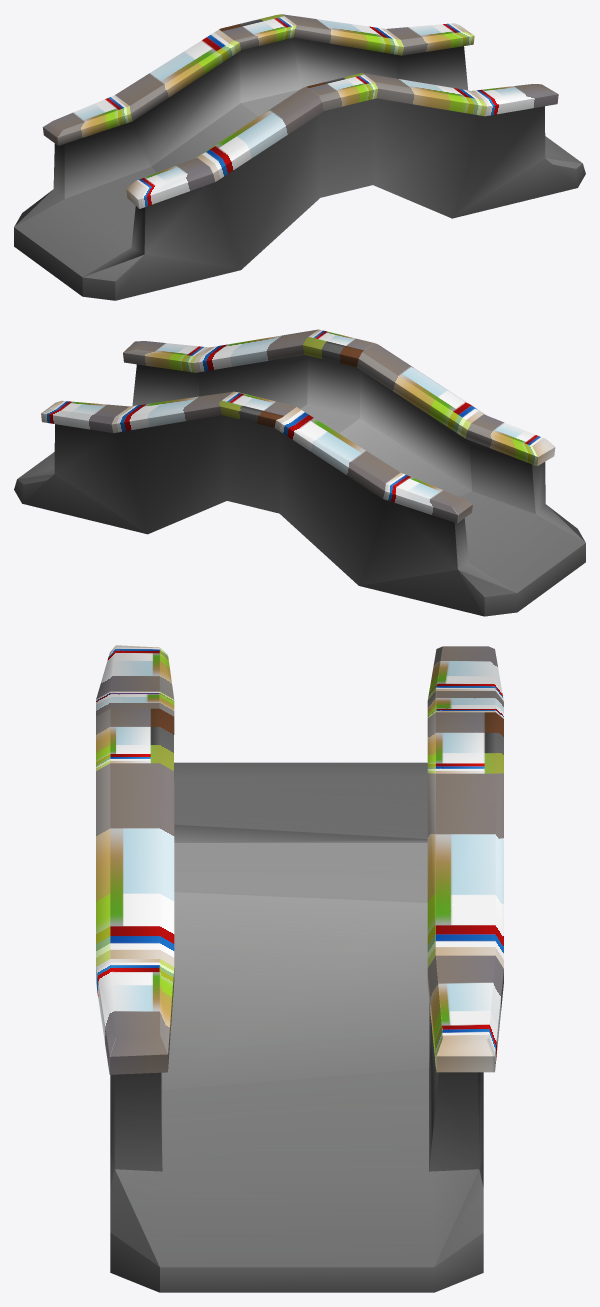
Rendered from CustomColl_StoneBridge.fbx.
3 renders of one model, top to bottom at view 1: azimuth 30°, elevation 25°; view 2: azimuth 150°, elevation 25°; view 3: azimuth 270°, elevation 25°, orthographic. The views are drawn at different scales.
Visible parts, largest first — view 1: StoneBridge_CollMesh; view 2: StoneBridge_CollMesh; view 3: StoneBridge_CollMesh.
Part boxes in pixels (x1,y1,x2,y2): StoneBridge_CollMesh: (14, 14, 585, 300); StoneBridge_CollMesh: (14, 329, 585, 616); StoneBridge_CollMesh: (96, 645, 503, 1292).
Size of the model in its own units: 12.1 by 3.57 by 4.25.
